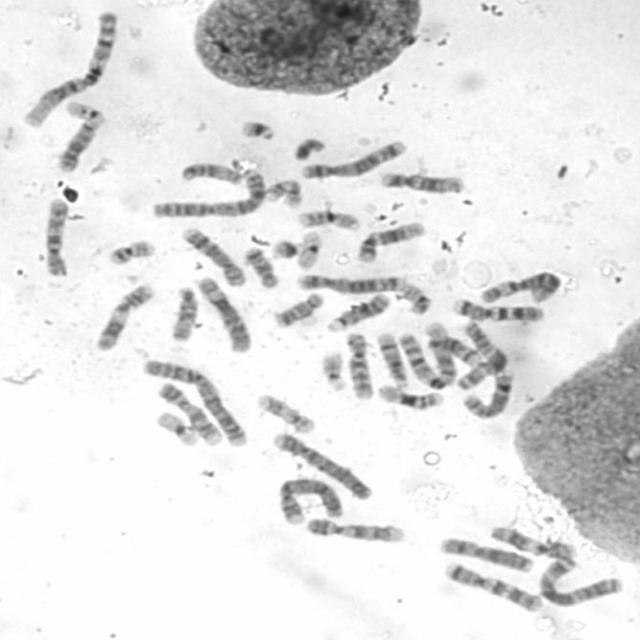A1: (19, 8, 121, 128), (394, 319, 460, 390)
A2: (139, 354, 251, 450), (146, 167, 268, 220)
A3: (535, 554, 624, 607), (453, 318, 507, 392)
B4: (269, 428, 374, 501), (274, 473, 344, 526)
B5: (296, 136, 410, 180), (292, 270, 408, 293)
C10: (40, 195, 72, 279), (342, 329, 375, 401)
C11: (92, 282, 157, 352), (486, 522, 578, 558)
C12: (353, 220, 426, 264), (376, 168, 466, 195)
C6: (193, 274, 253, 356), (476, 267, 562, 306)
C7: (440, 558, 545, 613), (449, 295, 545, 323)
C8: (178, 224, 248, 289), (458, 368, 515, 420)
C9: (154, 380, 224, 447), (302, 515, 407, 545)
D13: (323, 290, 392, 334), (54, 113, 104, 173)
D14: (373, 329, 410, 390), (423, 329, 482, 366)
D15: (167, 284, 200, 342), (178, 160, 244, 187)
E16: (374, 381, 446, 411), (294, 207, 362, 232)
E17: (252, 390, 317, 436), (261, 176, 303, 210)
E18: (270, 289, 325, 329), (241, 244, 280, 290)
F19: (152, 408, 202, 448), (294, 227, 324, 271)
F20: (105, 237, 156, 266), (401, 282, 433, 316)
G21: (236, 116, 277, 142), (269, 237, 303, 260)
G22: (317, 349, 349, 392), (64, 96, 105, 124)
X: (435, 534, 535, 573)
Y: (290, 134, 326, 162)
